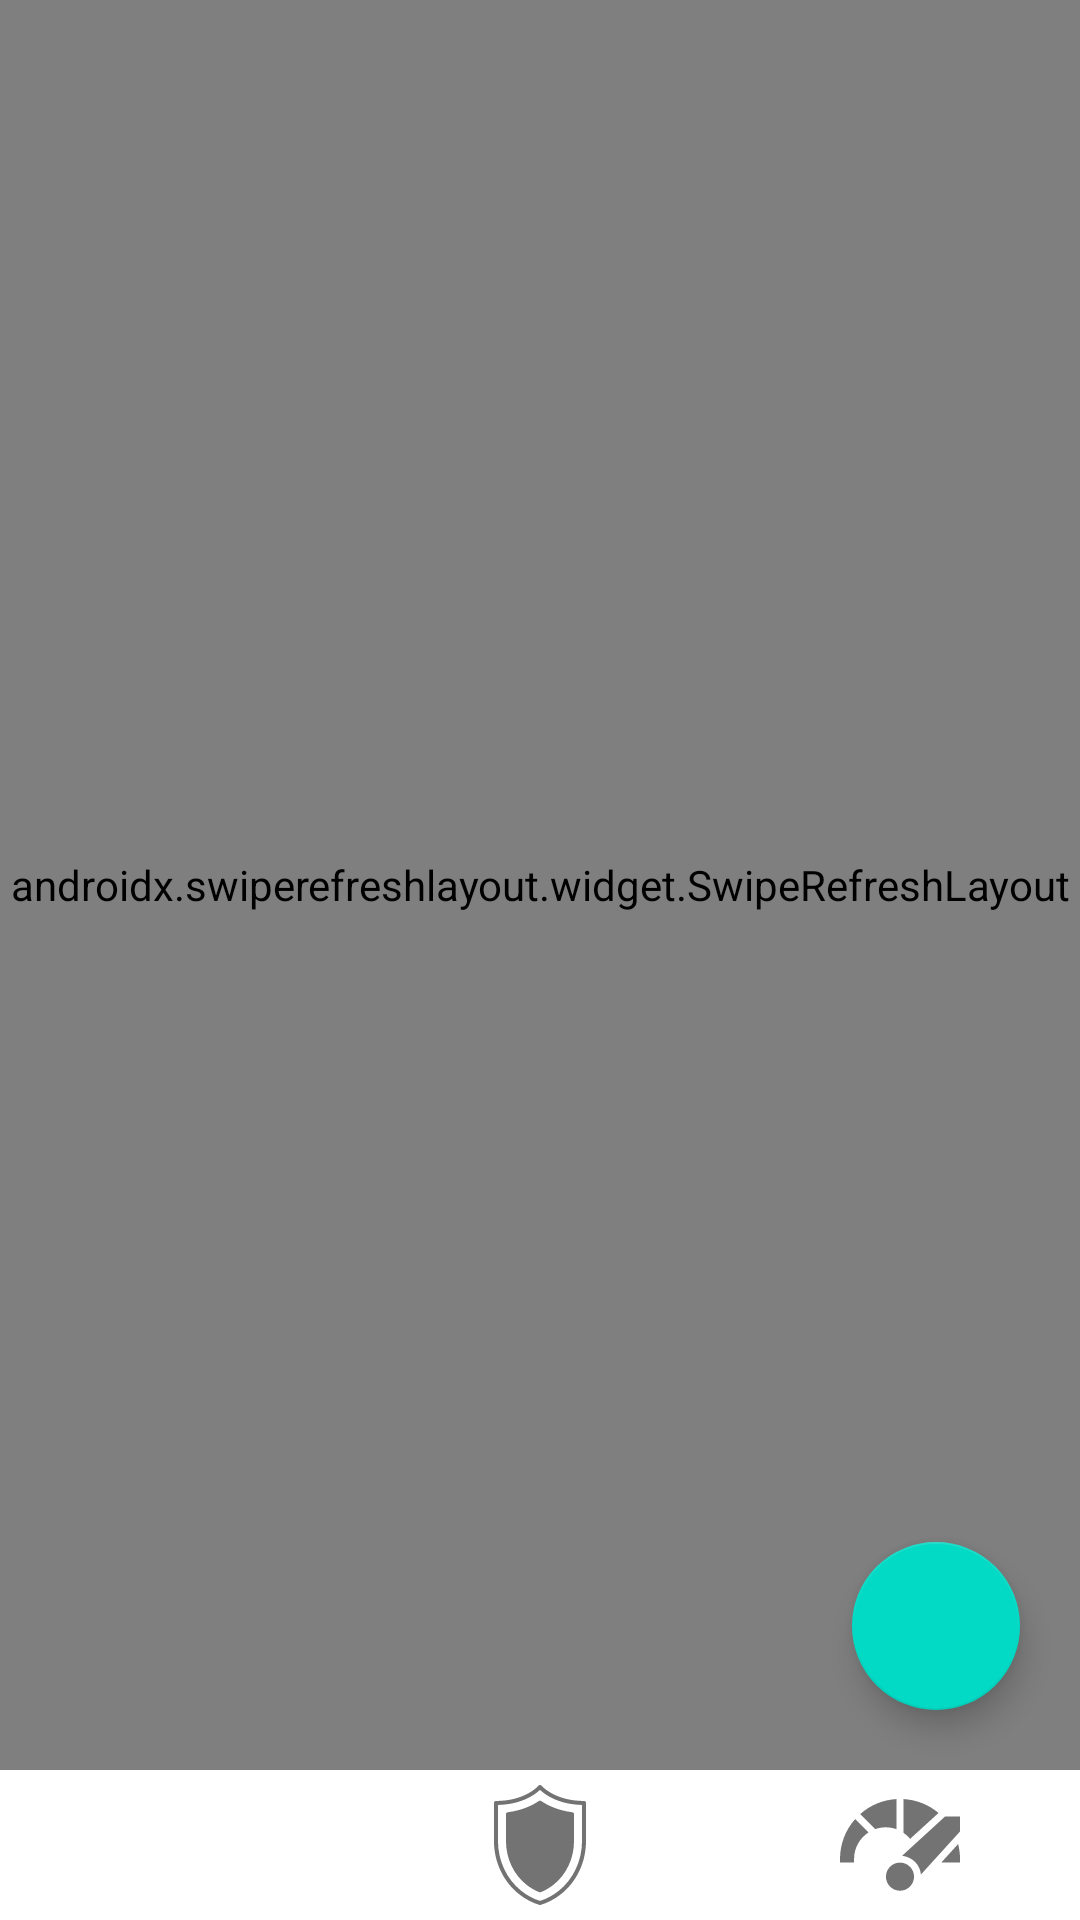

Point at icon controls on the screen. Image size 1080 x 1920, points as (x,y).
defense: (540,1845)
speed: (900,1845)
